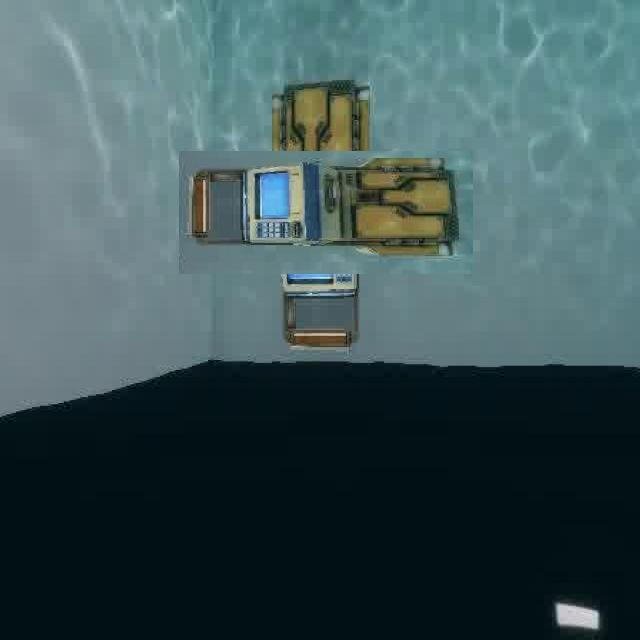Control Panel: (222, 109, 430, 318)
